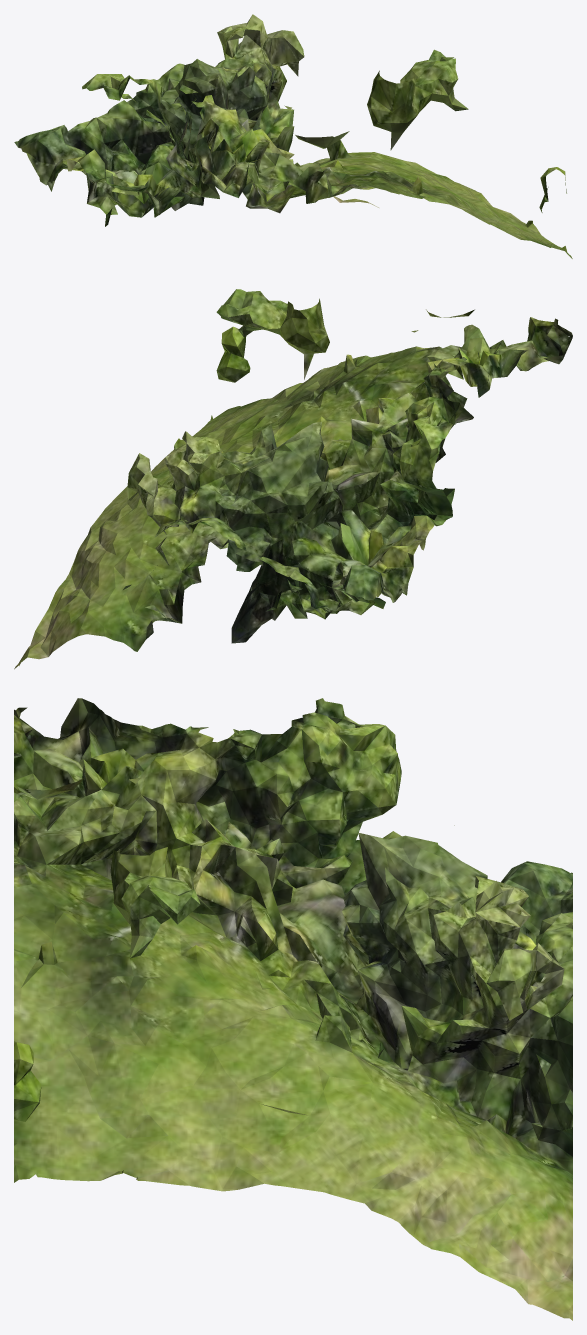
The picture shows the model from 3 angles, top to bottom: view 1: azimuth 30°, elevation 25°; view 2: azimuth 150°, elevation 25°; view 3: azimuth 270°, elevation 25°; orthographic projection. The views are drawn at different scales.
Bounding box in the file's own units: 26.11 × 19.93 × 26.11.
5 materials, 5 textured.
